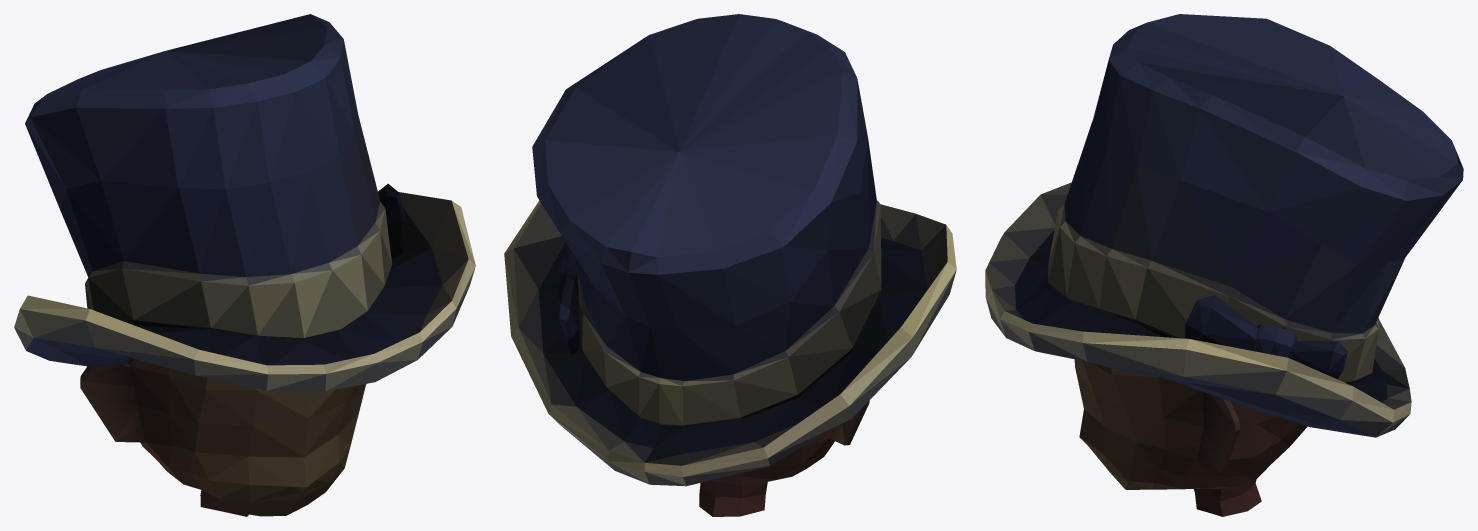
File: helm_darkskin_bald_tophat.fbx
3 renders of one model, left to right at view 1: azimuth 30°, elevation 25°; view 2: azimuth 150°, elevation 25°; view 3: azimuth 270°, elevation 25°, orthographic. The views are drawn at different scales.
Visible parts, largest first — view 1: helm_darkskin_bald_tophat; view 2: helm_darkskin_bald_tophat; view 3: helm_darkskin_bald_tophat.
Boxes of the visible parts, left/top/right/bottom form: helm_darkskin_bald_tophat: left=14, top=14, right=475, bottom=516; helm_darkskin_bald_tophat: left=504, top=14, right=956, bottom=516; helm_darkskin_bald_tophat: left=985, top=14, right=1463, bottom=516.
Bounding box in the file's own units: 1.55 × 1.7 × 1.59.
